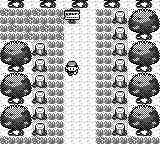captura: (0, 8, 64, 143), (96, 10, 159, 143)
leer: (65, 10, 79, 23)
main: (65, 61, 79, 75)
no-caminable: (0, 0, 159, 139), (0, 40, 32, 136), (112, 11, 128, 136), (32, 42, 47, 136)
